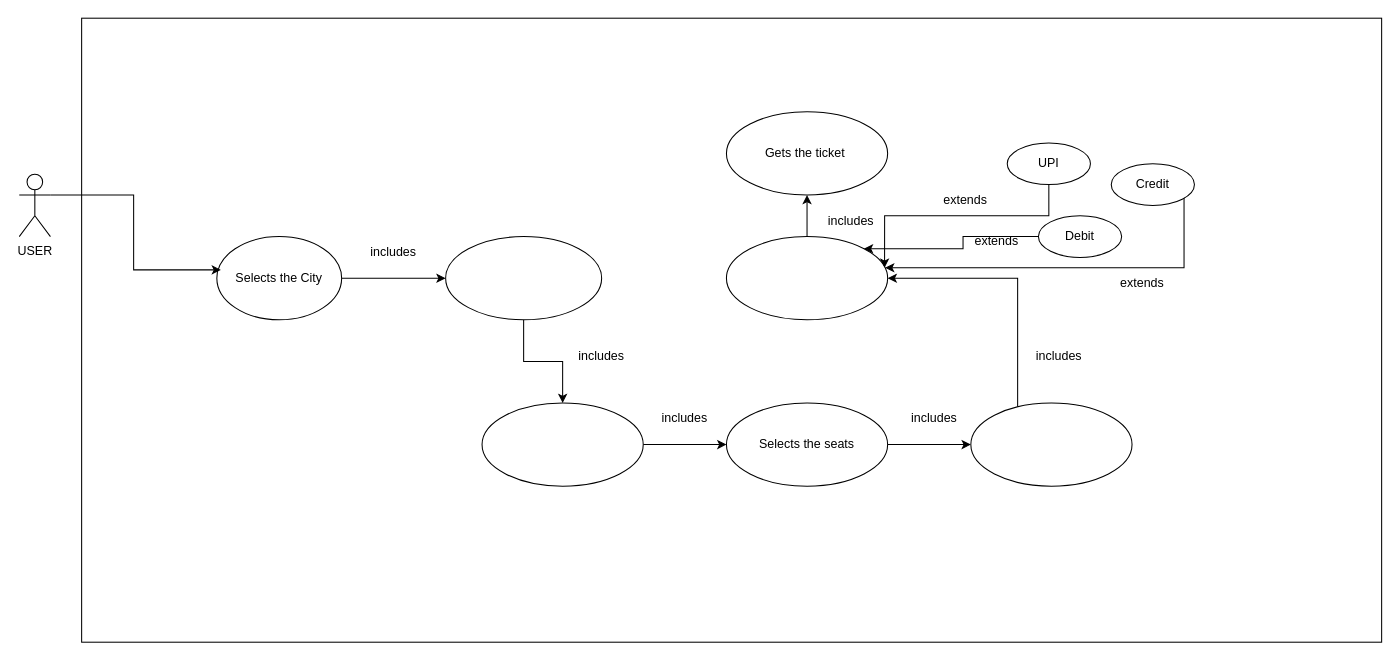
The diagram is 1400 pixels wide and 660 high, and some of its shapes have lost their labels. The shapes that lost their labels are listed below. From the top down, each one's centre as x and y in pixels, then its label:
the point at 523,278: Selects Theatre
the point at 806,278: Make Payment
the point at 562,444: Selects the Movie name
the point at 1051,444: Enters User details
